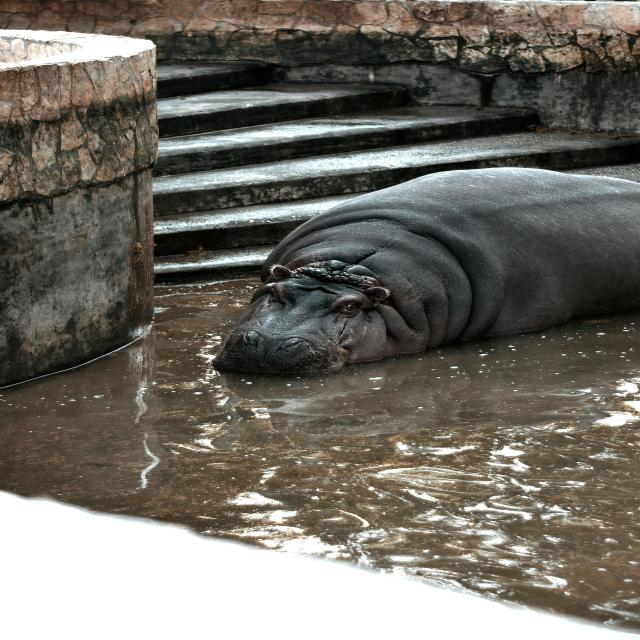Hippopotamus: (210, 162, 640, 380)
